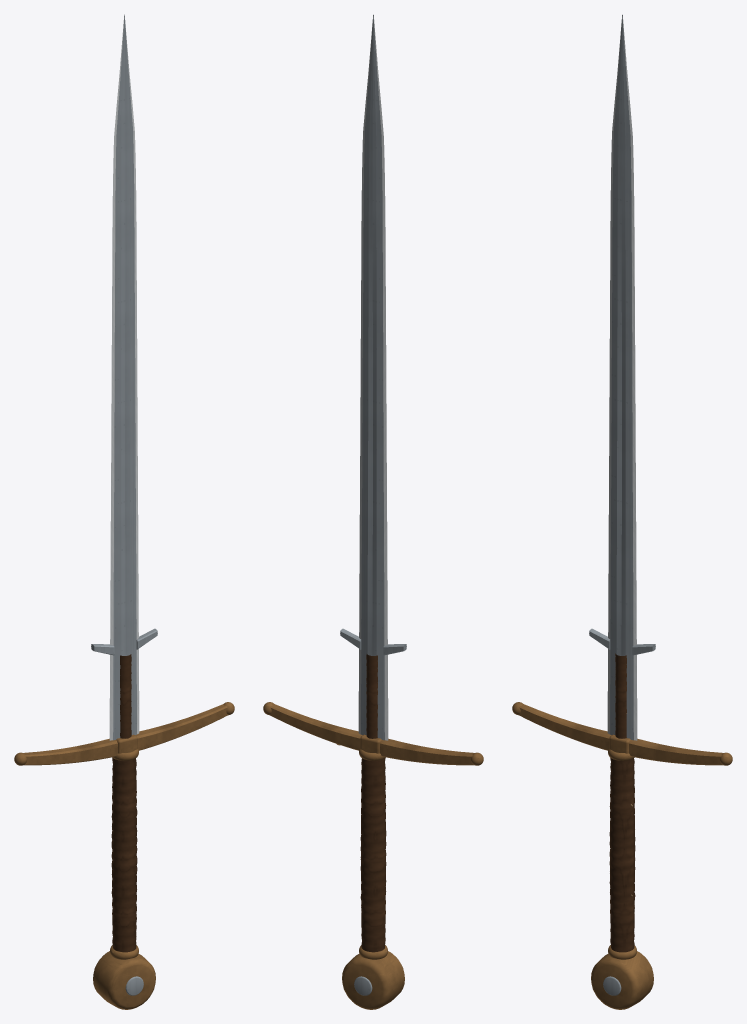
The model's file is greatsword.lod1.glb.
3 renders of one model, left to right at view 1: azimuth 30°, elevation 25°; view 2: azimuth 150°, elevation 25°; view 3: azimuth 330°, elevation 25°, orthographic.
Visible parts, largest first — view 1: steel / forged blade steel, bronze / cast bronze with patina, leather / oiled leather wrap, edge / honed bright bevel; view 2: steel / forged blade steel, bronze / cast bronze with patina, leather / oiled leather wrap, edge / honed bright bevel; view 3: steel / forged blade steel, bronze / cast bronze with patina, leather / oiled leather wrap, edge / honed bright bevel.
Part boxes in pixels (<box>): steel / forged blade steel: <box>91,14,157,995</box>; bronze / cast bronze with patina: <box>14,702,234,1009</box>; leather / oiled leather wrap: <box>111,654,137,952</box>; edge / honed bright bevel: <box>109,16,139,740</box>; steel / forged blade steel: <box>340,14,406,995</box>; bronze / cast bronze with patina: <box>263,702,483,1009</box>; leather / oiled leather wrap: <box>360,654,386,952</box>; edge / honed bright bevel: <box>358,15,388,740</box>; steel / forged blade steel: <box>589,14,655,995</box>; bronze / cast bronze with patina: <box>512,702,732,1009</box>; leather / oiled leather wrap: <box>609,653,635,952</box>; edge / honed bright bevel: <box>607,15,637,740</box>.
Size of the model in its own units: 0.3798 by 1.64 by 0.0666.
Materials: 6 (4 with a texture image).
